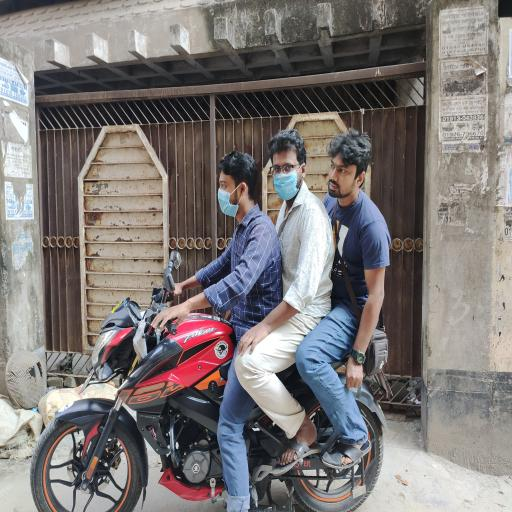helmet: (4, 348, 48, 410)
